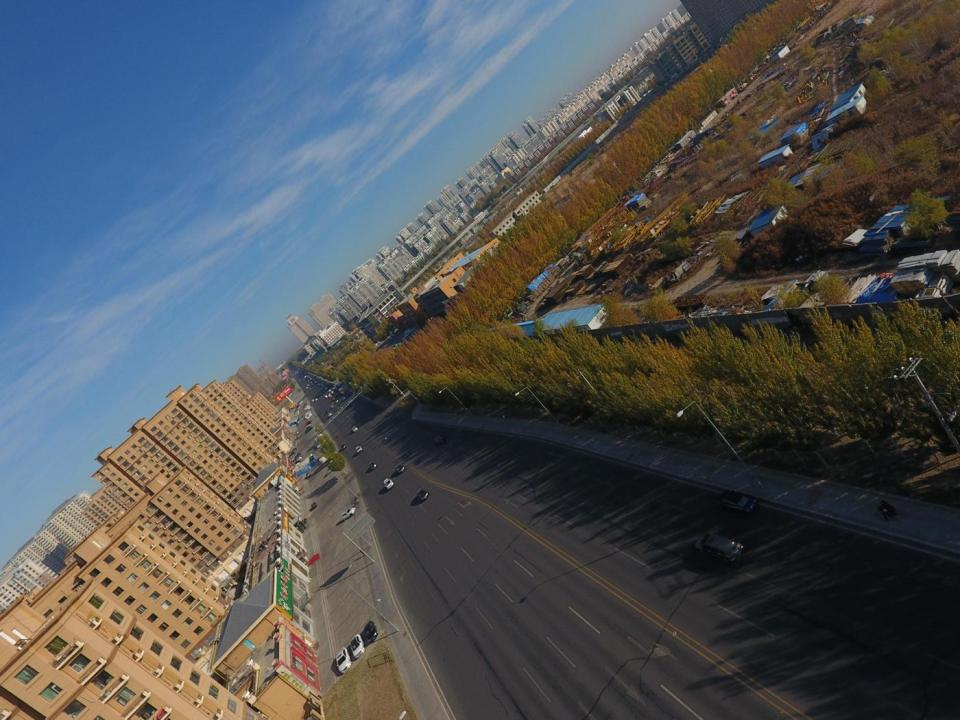bus: (334, 384, 339, 389)
car: (694, 533, 743, 564), (715, 490, 761, 516), (334, 647, 352, 674), (349, 633, 366, 658), (362, 620, 378, 642), (416, 488, 429, 500), (384, 478, 394, 490), (325, 465, 335, 476), (395, 464, 405, 472), (435, 436, 444, 444), (288, 450, 296, 458), (305, 426, 313, 434), (369, 461, 376, 470), (355, 446, 362, 454), (292, 452, 301, 458), (294, 454, 302, 460), (316, 442, 324, 448), (314, 434, 322, 440), (294, 457, 301, 463), (315, 441, 322, 447), (315, 437, 321, 444), (348, 399, 354, 406), (303, 419, 310, 425), (311, 502, 317, 508), (306, 471, 311, 478), (290, 447, 297, 452), (341, 444, 346, 450), (351, 426, 357, 431), (338, 407, 344, 412), (294, 409, 299, 414), (306, 424, 312, 428), (328, 412, 332, 417), (346, 392, 350, 396), (335, 399, 339, 403), (295, 430, 299, 434), (342, 397, 346, 400), (329, 395, 333, 398), (330, 391, 334, 394), (330, 405, 333, 408), (311, 399, 314, 402), (326, 410, 328, 414), (324, 387, 328, 389), (333, 397, 335, 400), (328, 393, 330, 396), (315, 398, 317, 401), (309, 382, 312, 384), (321, 384, 323, 386), (318, 384, 320, 386), (310, 388, 312, 390), (306, 387, 308, 389), (306, 384, 308, 386), (315, 381, 317, 383), (312, 379, 314, 381)
truck: (338, 387, 346, 394)
van: (289, 445, 295, 453), (294, 411, 300, 416), (334, 393, 338, 397), (324, 395, 328, 398)
